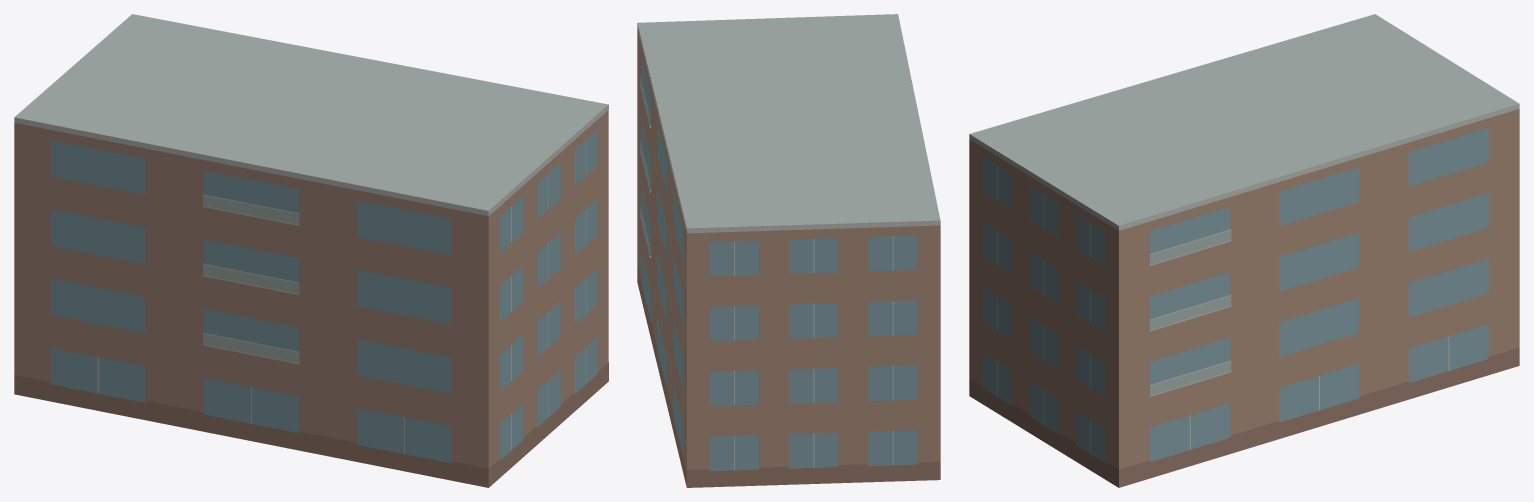
File: survey-upis-32993322.glb
The picture shows the model from 3 angles, left to right: view 1: azimuth 30°, elevation 25°; view 2: azimuth 150°, elevation 25°; view 3: azimuth 270°, elevation 25°; orthographic projection. The views are drawn at different scales.
Parts seen in each view (by area): view 1: survey-upis-32993322.tmp; view 2: survey-upis-32993322.tmp; view 3: survey-upis-32993322.tmp.
Boxes of the visible parts, x1,y1,x2,y2 form: survey-upis-32993322.tmp: (14,14,608,487); survey-upis-32993322.tmp: (637,14,940,487); survey-upis-32993322.tmp: (969,14,1519,487).
Size of the model in its own units: 22.21 by 12.8 by 24.38.
